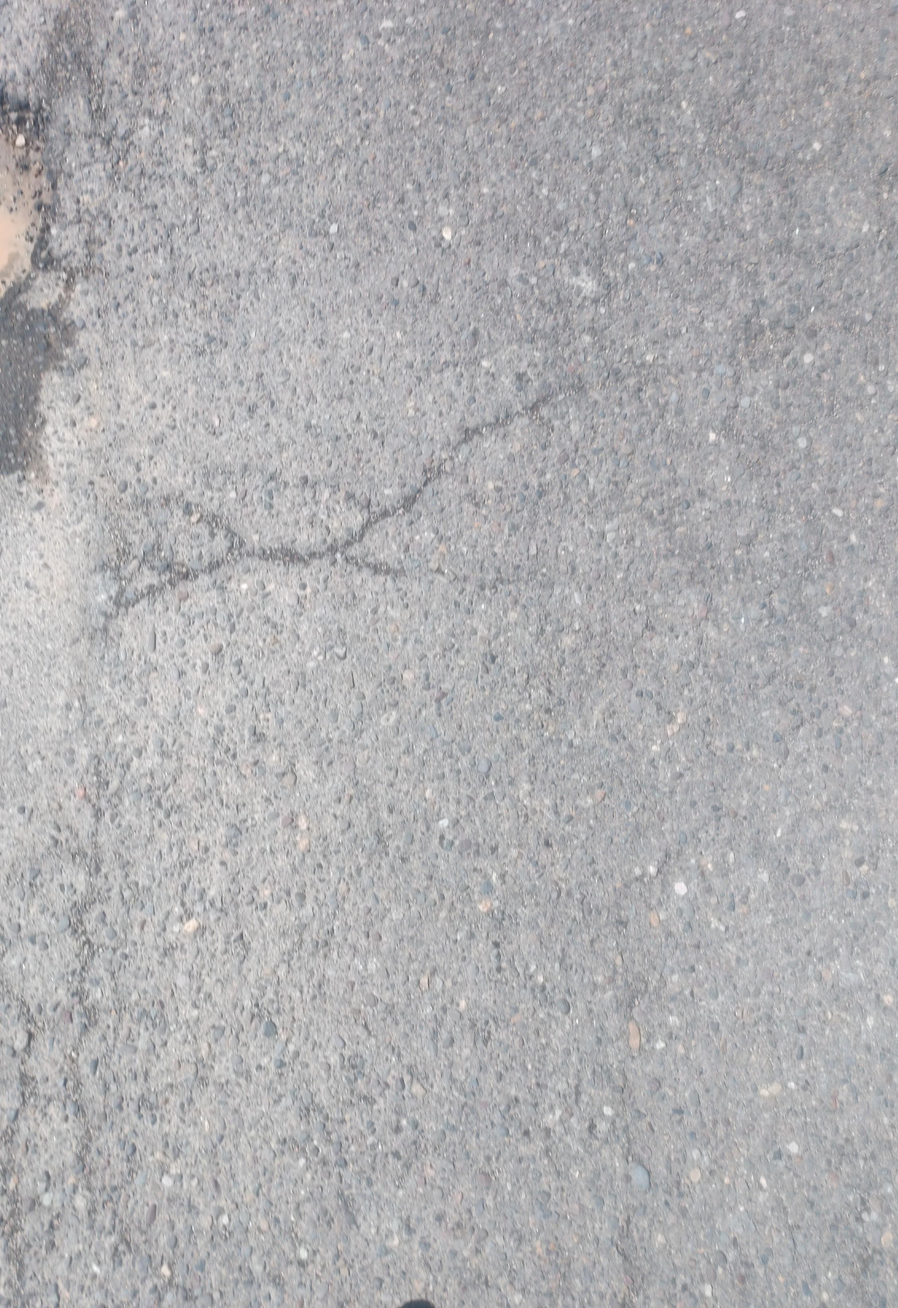BACHE: (0, 101, 64, 316)
GRIETA: (108, 375, 644, 614)
PIEL DE COCODRILO: (588, 6, 898, 559), (0, 779, 210, 1308)
